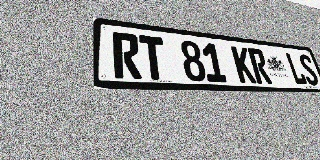1: (200, 42, 227, 82)
8: (179, 40, 207, 82)
K: (231, 46, 257, 83)
L: (284, 52, 308, 85)
R: (112, 32, 142, 79), (247, 48, 273, 84)
S: (297, 54, 320, 86)
T: (139, 35, 168, 80)
